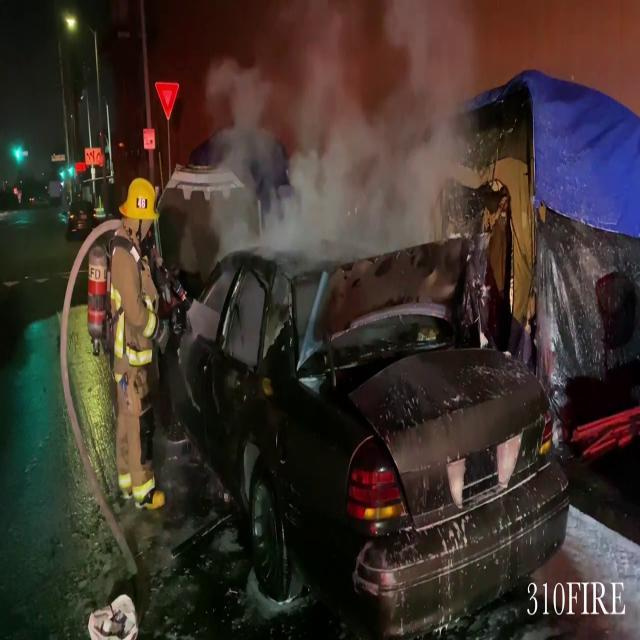Smoke: (204, 0, 489, 266)
